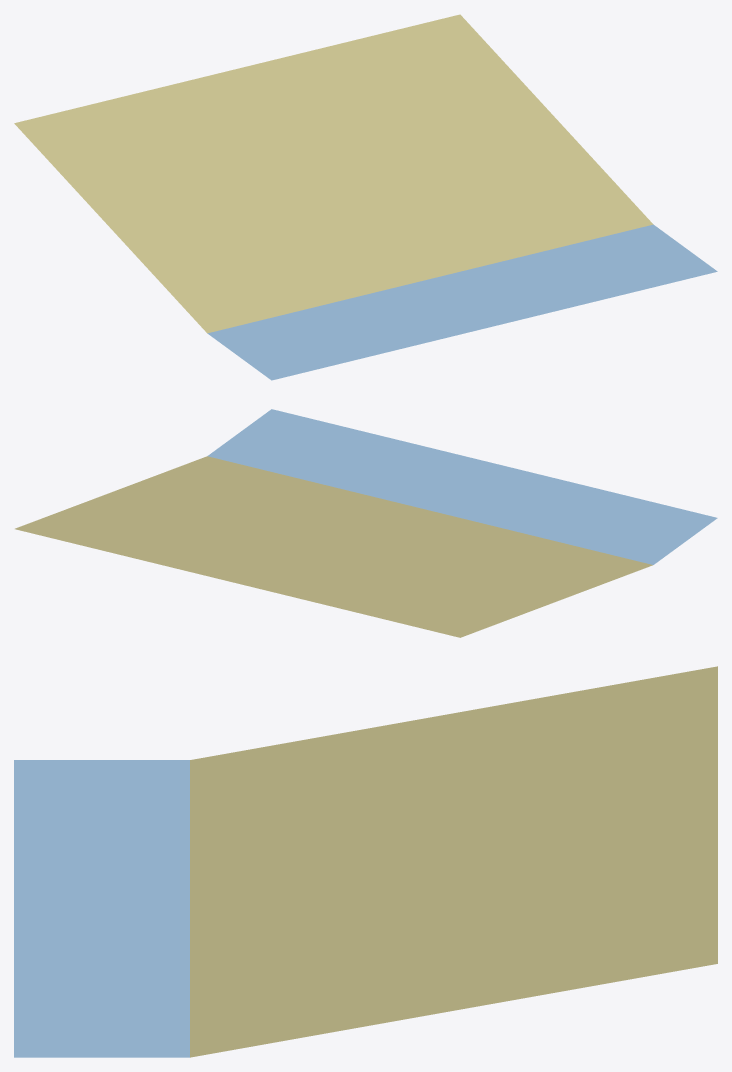
The model's file is beach_tile_1x1_007.fbx.
3 renders of one model, top to bottom at view 1: azimuth 30°, elevation 25°; view 2: azimuth 150°, elevation 25°; view 3: azimuth 270°, elevation 25°, orthographic. The views are drawn at different scales.
Visible parts, largest first — view 1: beach_tile_1x1_007; view 2: beach_tile_1x1_007; view 3: beach_tile_1x1_007.
Boxes of the visible parts, bbox=[...] form: beach_tile_1x1_007: bbox=[14, 14, 717, 380]; beach_tile_1x1_007: bbox=[15, 409, 717, 637]; beach_tile_1x1_007: bbox=[14, 666, 717, 1057].
Bounding box in the file's own units: 800 × 118 × 800.
